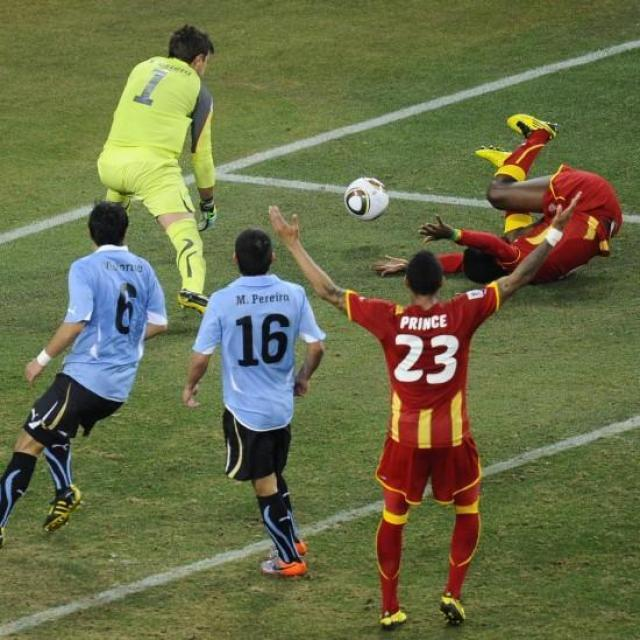fall: (399, 113, 636, 300)
